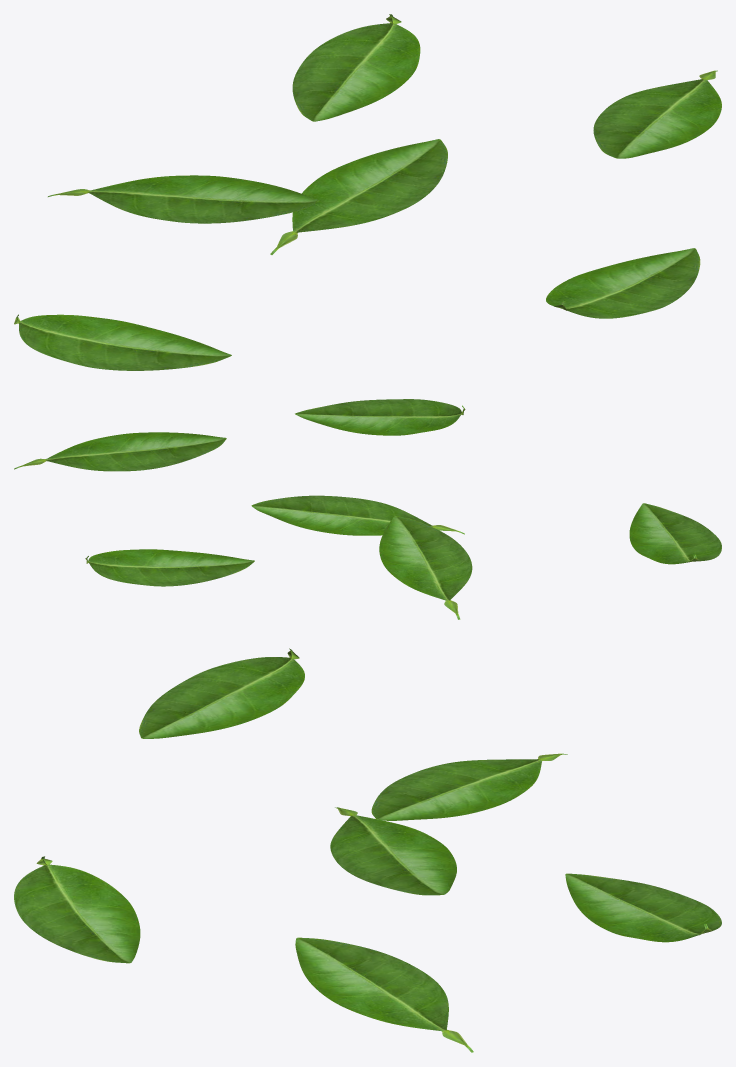
File: Leaves.glb
The picture shows the model from 3 angles, top to bottom: view 1: azimuth 30°, elevation 25°; view 2: azimuth 150°, elevation 25°; view 3: azimuth 270°, elevation 25°; orthographic projection. The views are drawn at different scales.
Parts seen in each view (by area): view 1: Plane.004_Plane.001; view 2: Plane.004_Plane.001; view 3: Plane.004_Plane.001.
Boxes of the visible parts, left/top/right/bottom form: Plane.004_Plane.001: left=14, top=14, right=721, bottom=370; Plane.004_Plane.001: left=14, top=399, right=721, bottom=619; Plane.004_Plane.001: left=14, top=648, right=721, bottom=1052.
Size of the model in its own units: 5.32 by 0.2049 by 4.05.
Materials: 1 (1 with a texture image).
